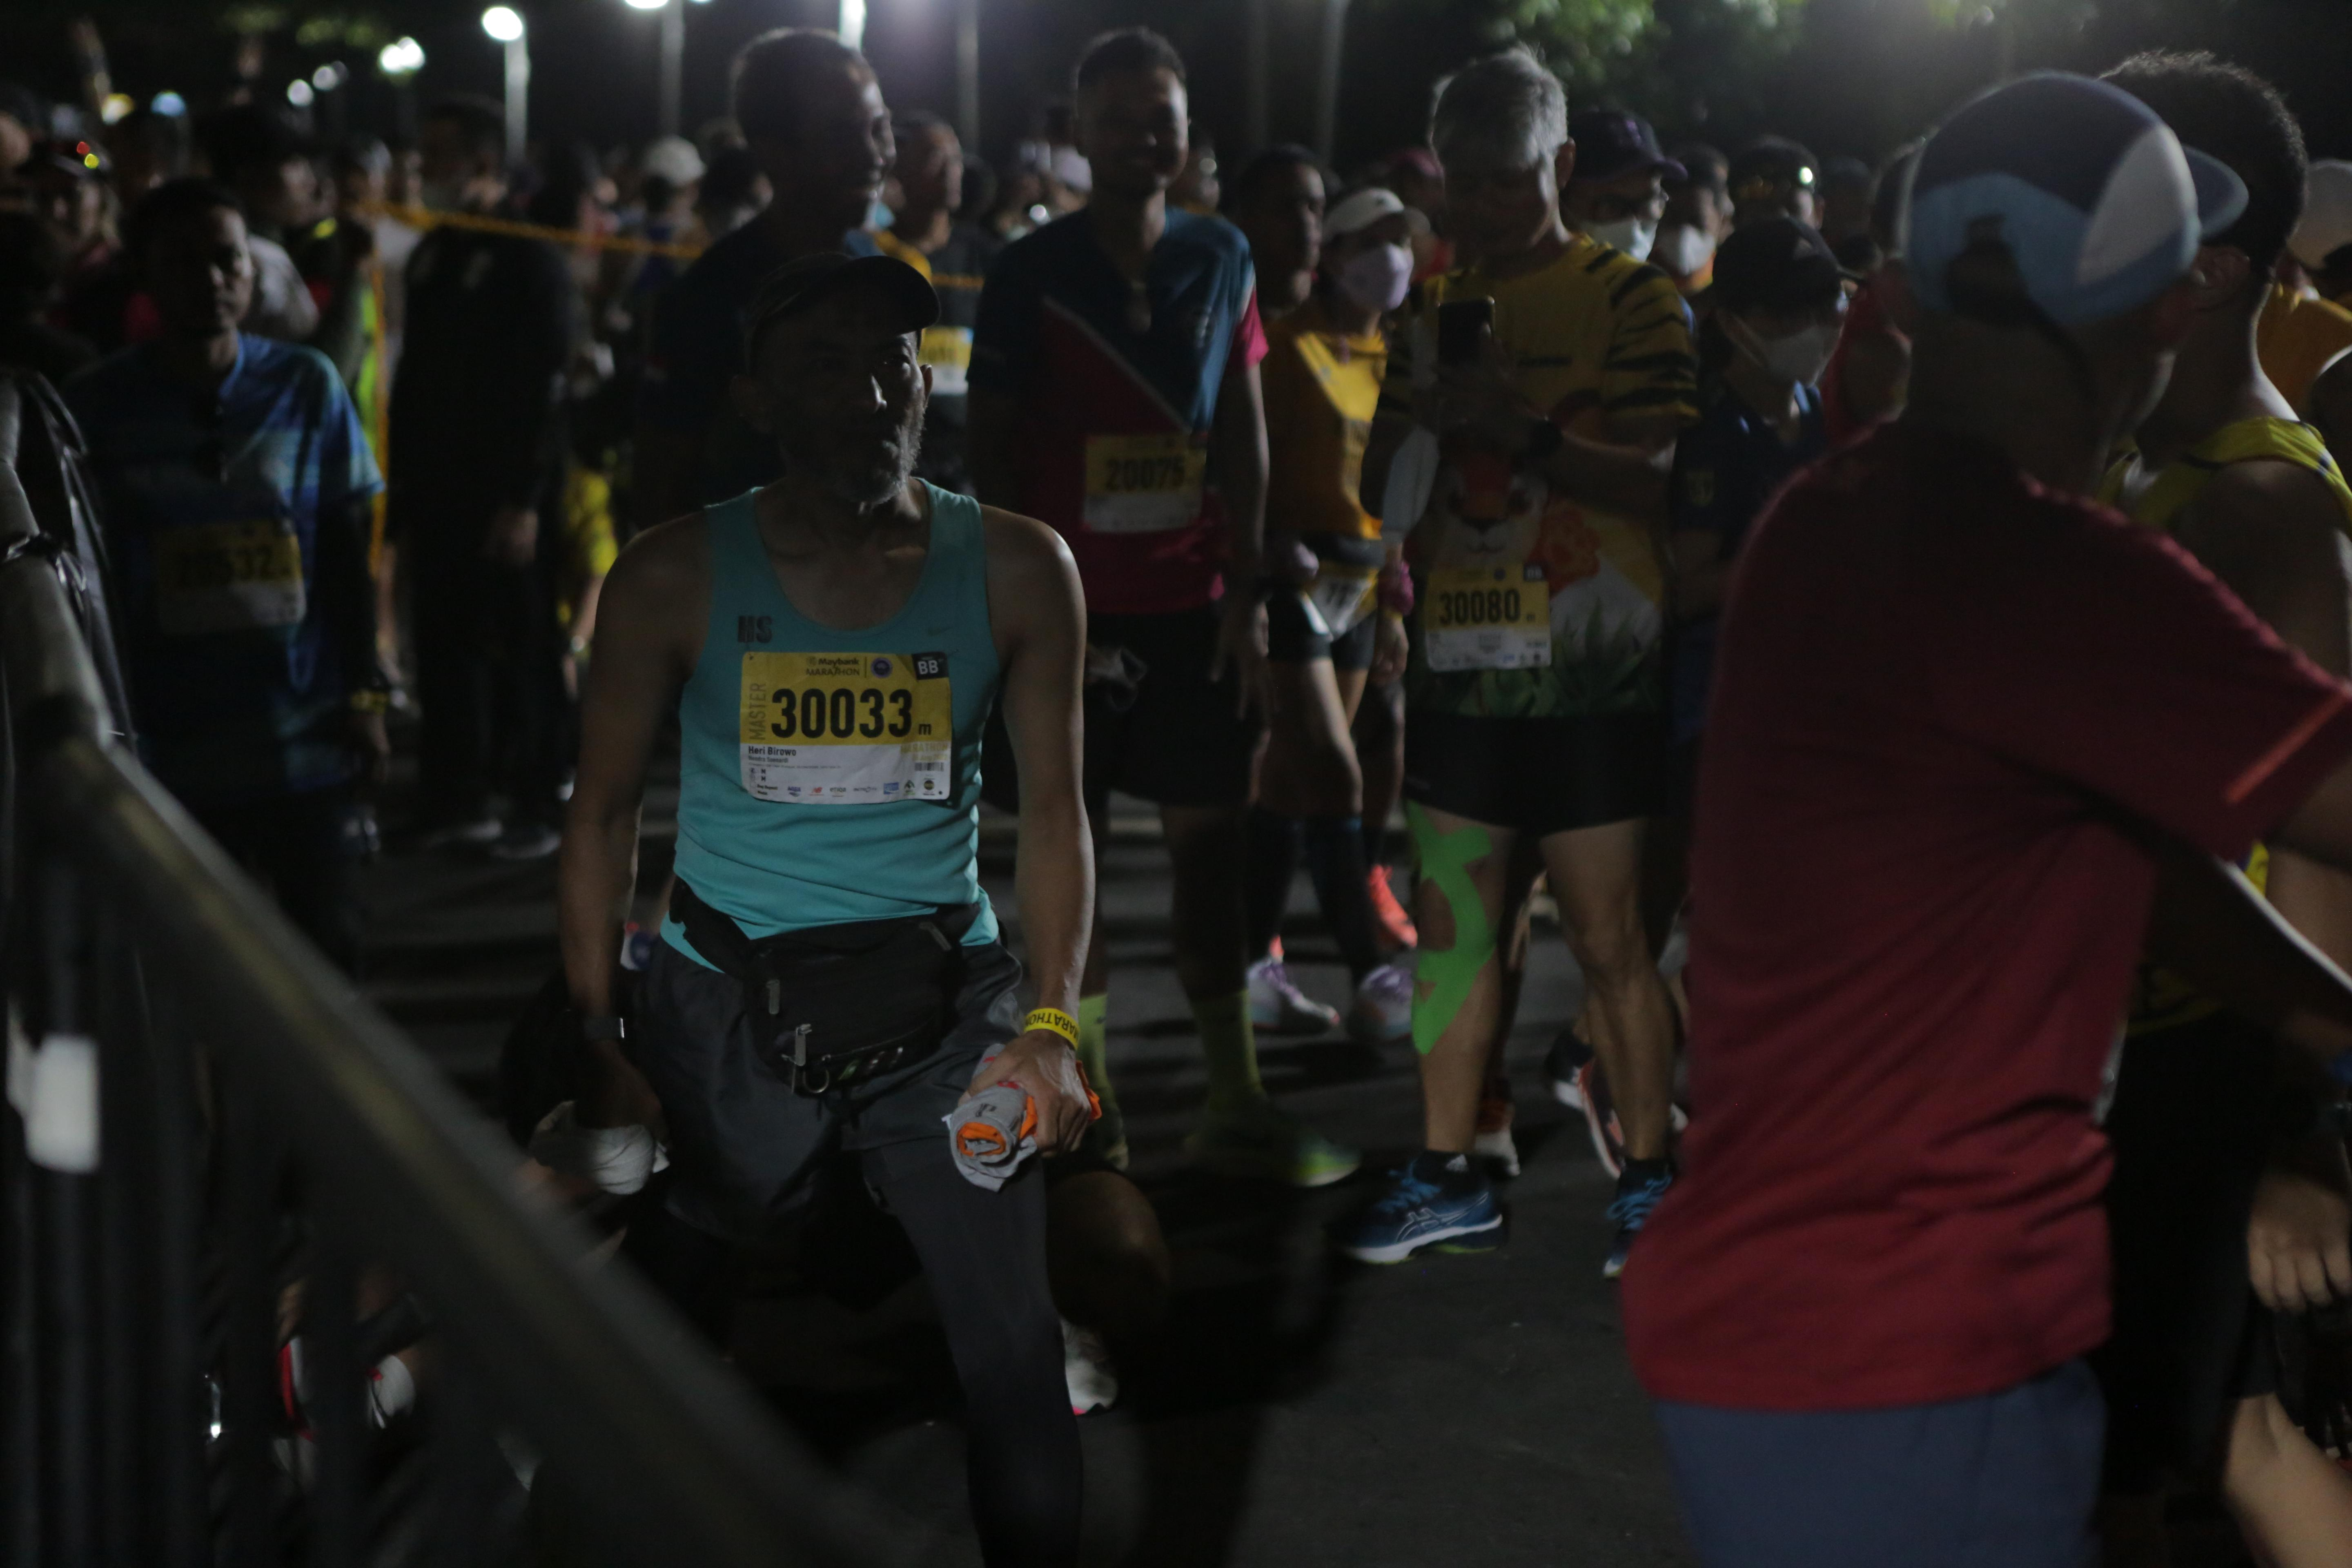bib: (742, 649, 952, 803), (143, 527, 303, 626), (1426, 565, 1554, 668), (1081, 436, 1207, 534), (1302, 560, 1375, 635)
